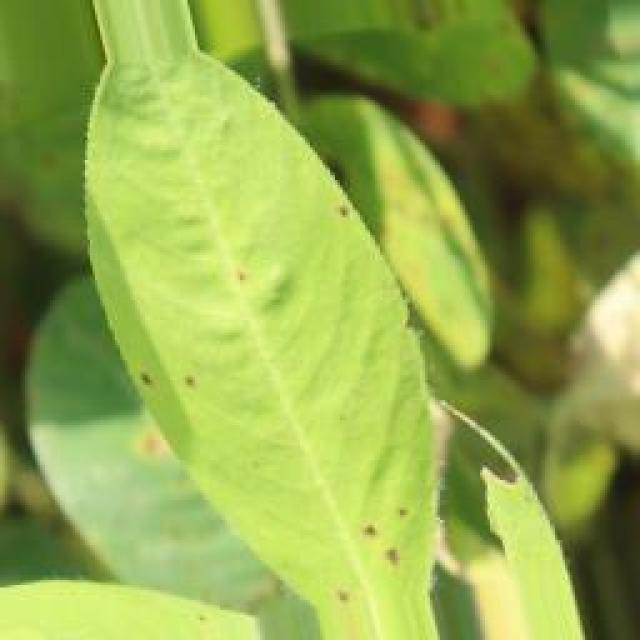Sigatoka: (122, 355, 256, 451), (333, 496, 442, 594), (314, 569, 391, 633), (316, 187, 374, 253), (226, 251, 270, 322)
